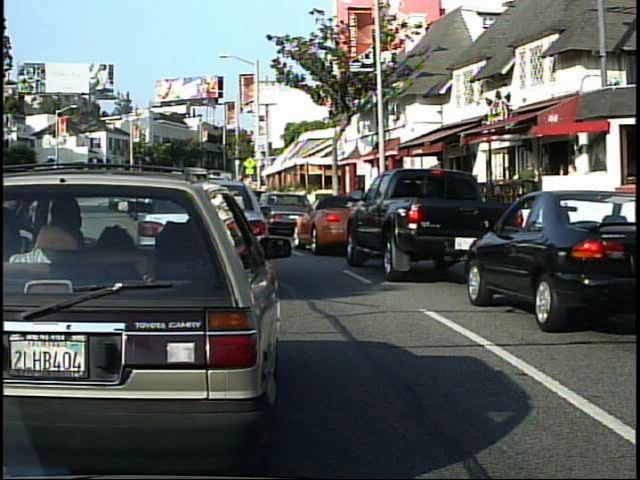person: (516, 156, 543, 225), (552, 153, 578, 224)
